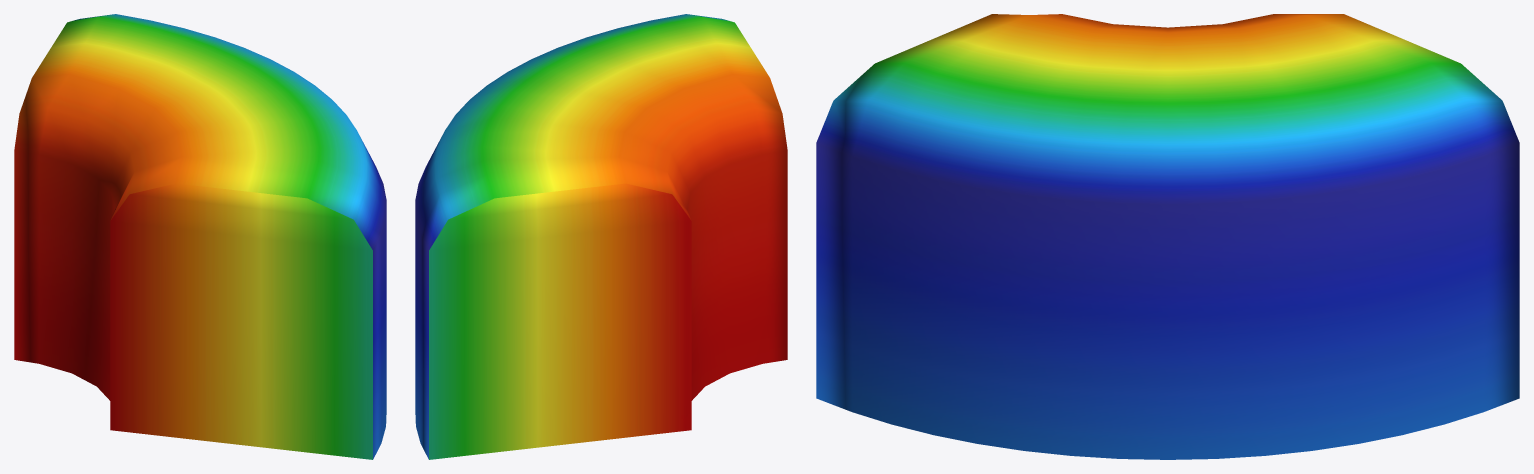
File: model_BurbleHalfMoon.fbx
The picture shows the model from 3 angles, left to right: view 1: azimuth 30°, elevation 25°; view 2: azimuth 150°, elevation 25°; view 3: azimuth 270°, elevation 25°; orthographic projection. The views are drawn at different scales.
Visible parts, largest first — view 1: model_BurbleHalfMoon; view 2: model_BurbleHalfMoon; view 3: model_BurbleHalfMoon.
Part boxes in pixels (x1,y1,x2,y2): model_BurbleHalfMoon: [14, 14, 386, 459]; model_BurbleHalfMoon: [415, 14, 787, 459]; model_BurbleHalfMoon: [816, 14, 1519, 459].
Size of the model in its own units: 34.63 by 32.37 by 64.08.
